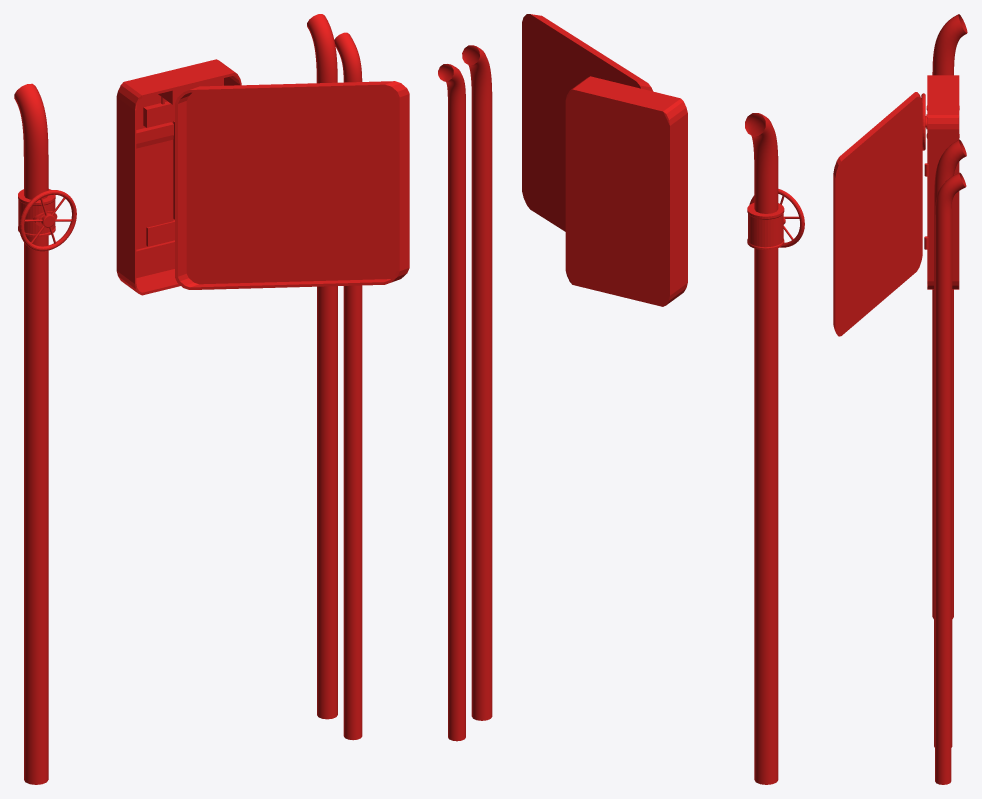
Rendered from kabelki.fbx.
3 renders of one model, left to right at view 1: azimuth 30°, elevation 25°; view 2: azimuth 150°, elevation 25°; view 3: azimuth 270°, elevation 25°, orthographic. The views are drawn at different scales.
Visible parts, largest first — view 1: Cube.001, NurbsPath, NurbsPath.001, NurbsPath.002, Cube, Cube.004, valve, Cylinder.007, Cube.007; view 2: Cube, NurbsPath, NurbsPath.001, NurbsPath.002, Cube.001, Cylinder.007; view 3: Cube.001, NurbsPath.002, Cube, NurbsPath, NurbsPath.001.
Boxes of the visible parts, bbox=[...] form: Cube.001: bbox=[175, 81, 409, 289]; NurbsPath: bbox=[14, 83, 48, 784]; NurbsPath.001: bbox=[307, 14, 337, 719]; NurbsPath.002: bbox=[334, 32, 362, 740]; Cube: bbox=[116, 59, 241, 295]; Cube.004: bbox=[136, 122, 173, 229]; valve: bbox=[19, 190, 76, 251]; Cylinder.007: bbox=[18, 189, 55, 237]; Cube.007: bbox=[136, 240, 174, 269]; Cube: bbox=[565, 76, 687, 306]; NurbsPath: bbox=[745, 113, 778, 784]; NurbsPath.001: bbox=[462, 45, 492, 720]; NurbsPath.002: bbox=[438, 64, 465, 741]; Cube.001: bbox=[522, 14, 653, 231]; Cylinder.007: bbox=[747, 203, 784, 249]; Cube.001: bbox=[833, 92, 922, 336]; NurbsPath.002: bbox=[935, 172, 966, 784]; Cube: bbox=[927, 75, 959, 289]; NurbsPath: bbox=[932, 14, 967, 618]; NurbsPath.001: bbox=[934, 139, 966, 747].
Bounding box in the file's own units: 660 × 249 × 1293.
